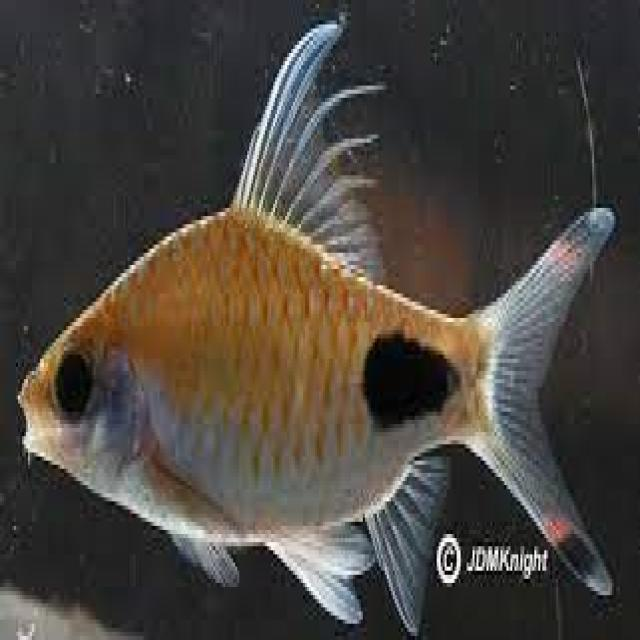Black-Spotted-Barb: (18, 0, 616, 620)
